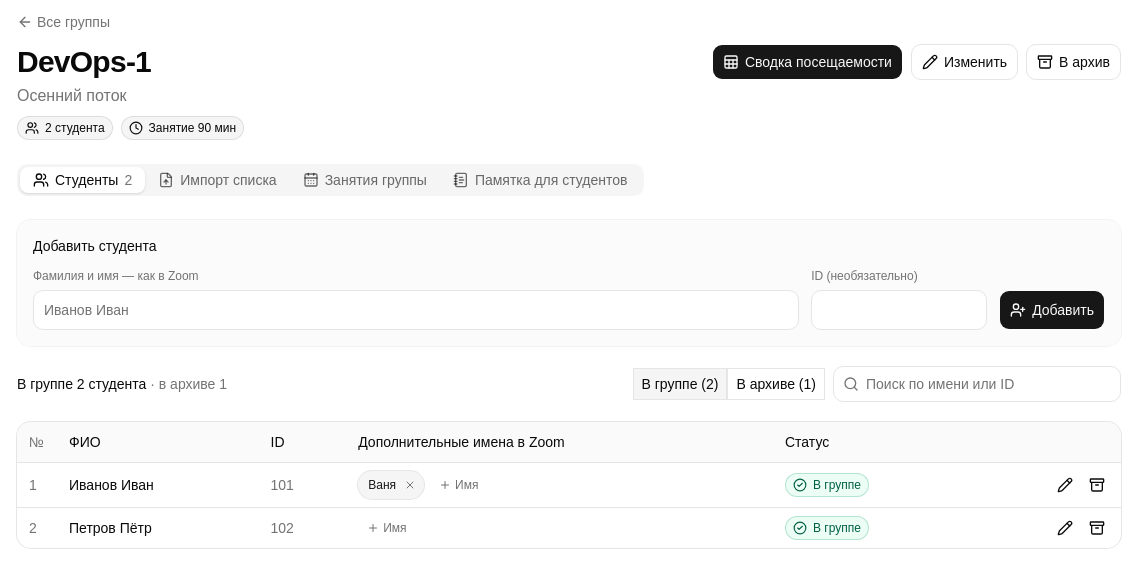
Test: GroupPage › shows the header and the roster sorted by name with IDs, aliases and status
Expected: the heading "DevOps-1" is shown, [17, 45, 151, 78]
Expected: the text "Осенний поток" is shown, [17, 87, 127, 104]
Click the radio button labelled "В архиве (1)" at [776, 384], box [727, 368, 825, 400]
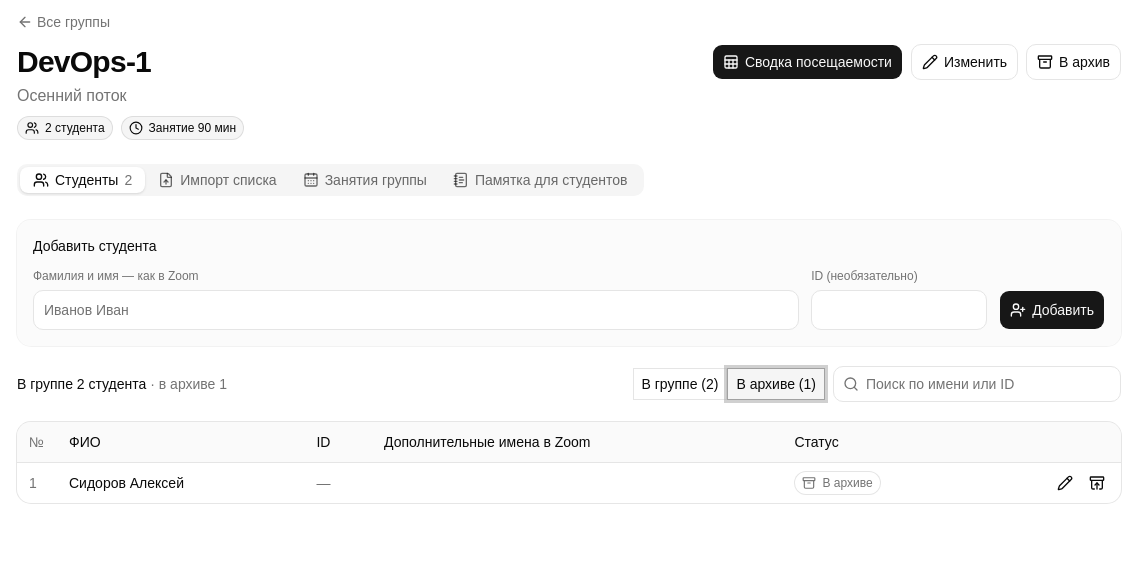
Now the text "Сидоров Алексей" is shown, box [57, 463, 304, 503]
Now the button named "Вернуть в группу: Сидоров Алексей" is shown, box [1081, 467, 1113, 499]
